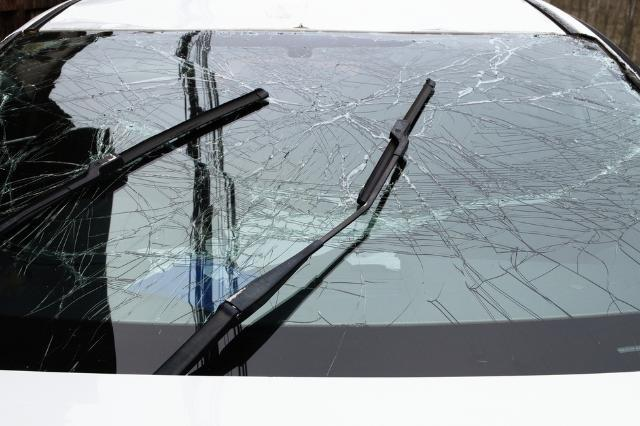Windshield: (0, 28, 634, 338)
